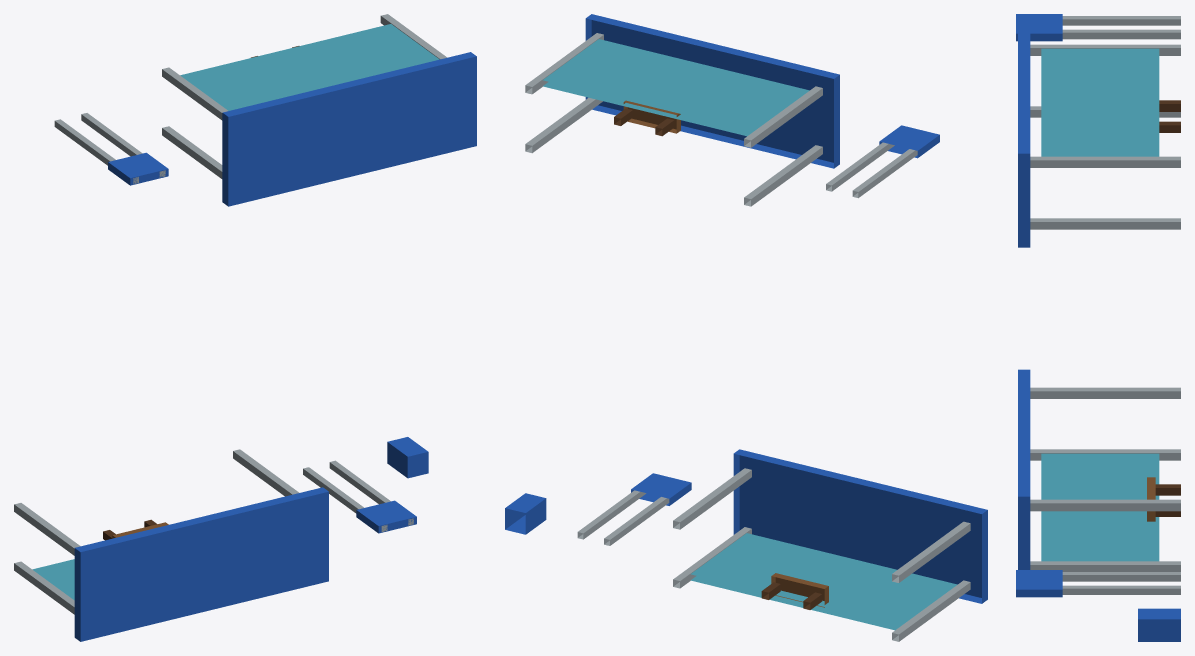
3 renders of one model, left to right at view 1: azimuth 30°, elevation 25°; view 2: azimuth 150°, elevation 25°; view 3: azimuth 270°, elevation 25°, orthographic. The views are drawn at different scales.
Visible parts, largest first — view 1: stop_bus_drive_default; view 2: stop_bus_drive_default; view 3: stop_bus_drive_default.
Boxes of the visible parts, x1,y1,x2,y2 form: stop_bus_drive_default: (14, 14, 476, 641); stop_bus_drive_default: (505, 14, 987, 641); stop_bus_drive_default: (1016, 14, 1180, 641).
Bounding box in the file's own units: 13.7 × 15.8 × 4.6.
